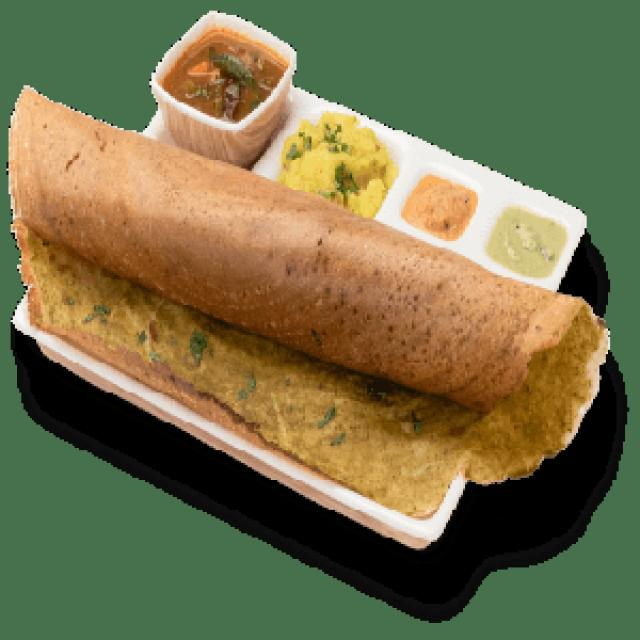dosa: (0, 68, 622, 522)
